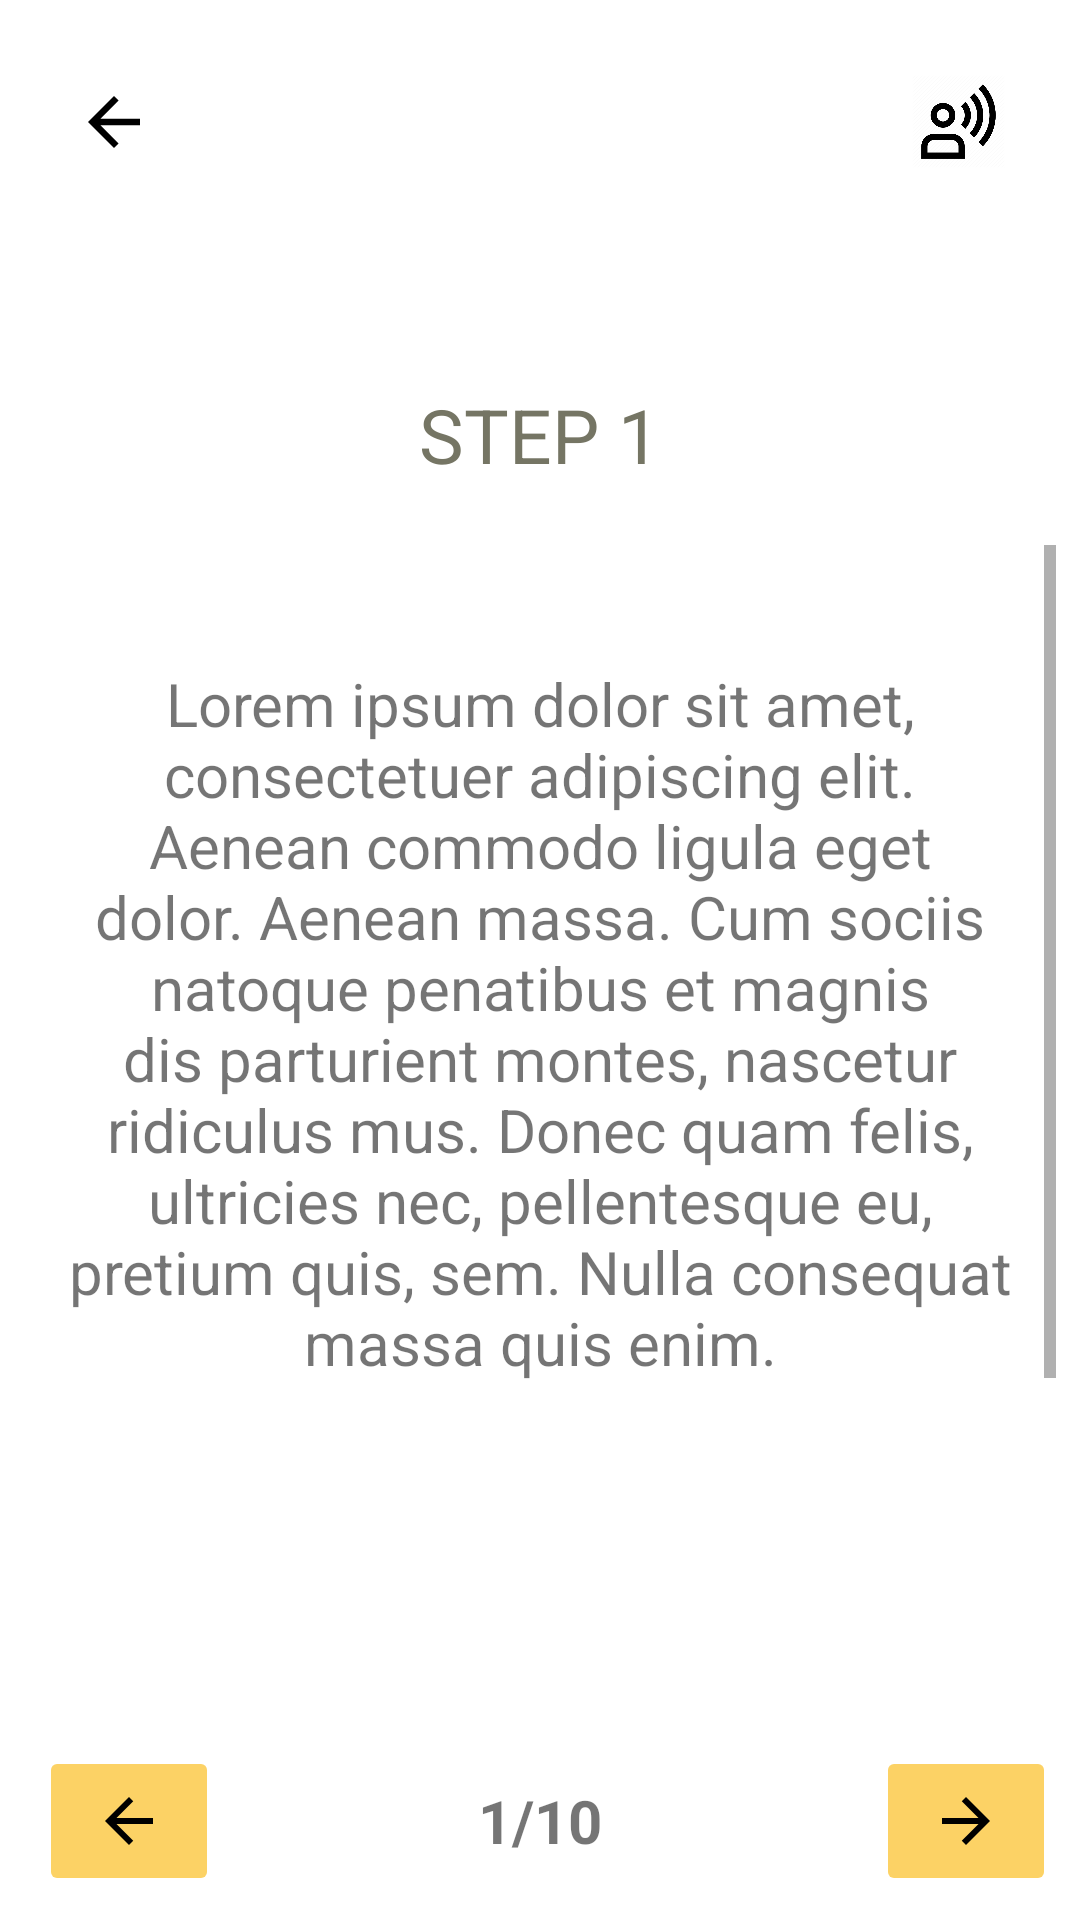

Named icons in this screenshot (1080px×1920px) and their centers, [x,y]:
read aloud: [958,121]
